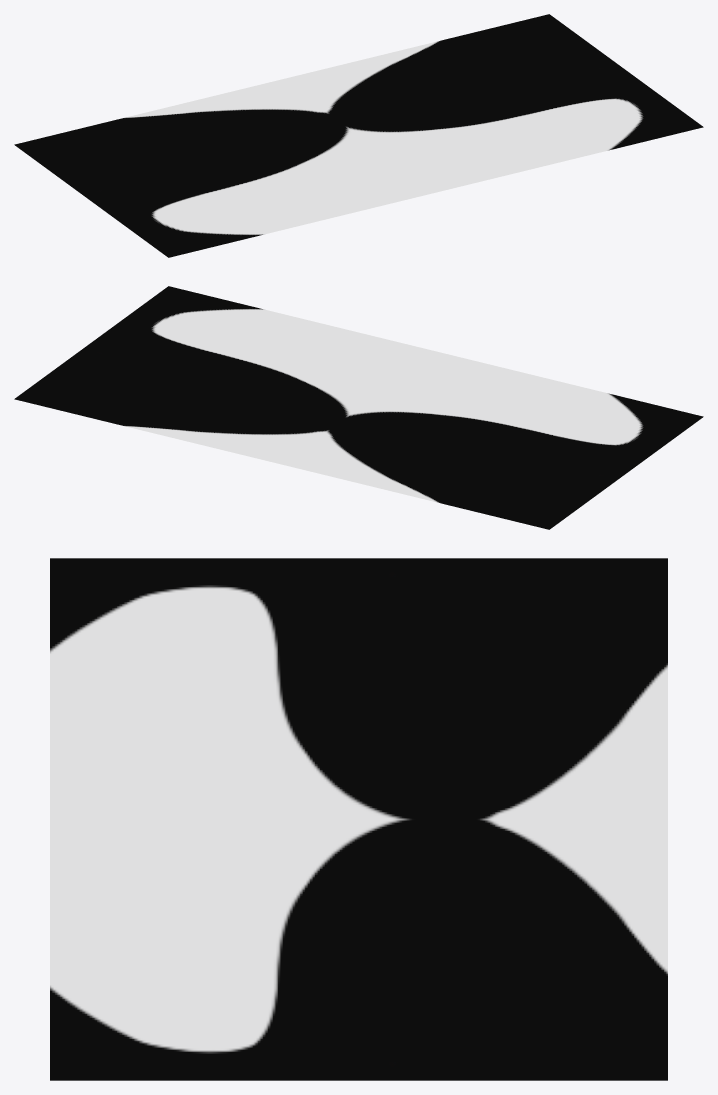
File: FxPlane_Charging_1.fbx
3 renders of one model, top to bottom at view 1: azimuth 30°, elevation 25°; view 2: azimuth 150°, elevation 25°; view 3: azimuth 270°, elevation 25°, orthographic. The views are drawn at different scales.
Visible parts, largest first — view 1: FxPlane_Charging_1; view 2: FxPlane_Charging_1; view 3: FxPlane_Charging_1.
Boxes of the visible parts, x1,y1,x2,y2 form: FxPlane_Charging_1: (14,14,703,257); FxPlane_Charging_1: (14,286,703,529); FxPlane_Charging_1: (50,558,667,1080).
Size of the model in its own units: 200 by 6.12e-15 by 100.
1 material, 1 textured.
